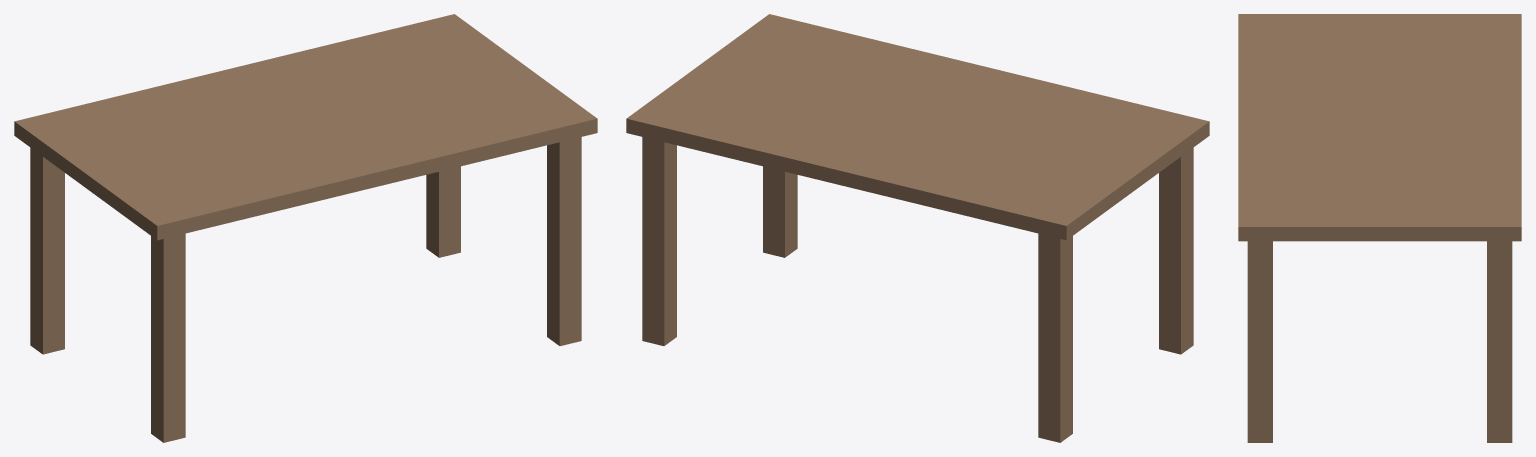
Rendered from fu_dining_table.glb.
3 views of the same model, side by side, from view 1: azimuth 30°, elevation 25°; view 2: azimuth 150°, elevation 25°; view 3: azimuth 270°, elevation 25° (orthographic).
Parts seen in each view (by area): view 1: fu_dining_table; view 2: fu_dining_table; view 3: fu_dining_table.
Boxes of the visible parts, left/top/right/bottom form: fu_dining_table: left=14, top=14, right=597, bottom=442; fu_dining_table: left=626, top=14, right=1209, bottom=442; fu_dining_table: left=1238, top=14, right=1521, bottom=442.
Size of the model in its own units: 1.6 by 0.775 by 0.9.
